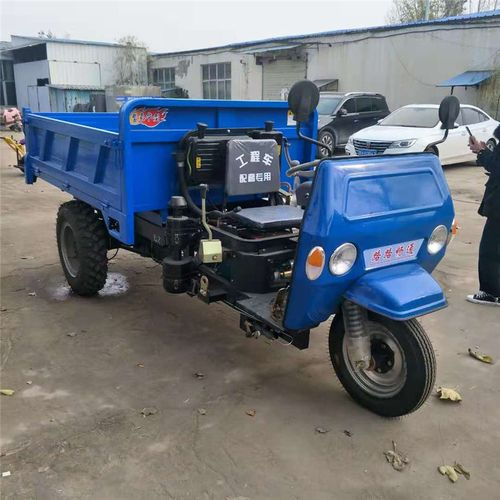empty: (3, 160, 497, 495)
